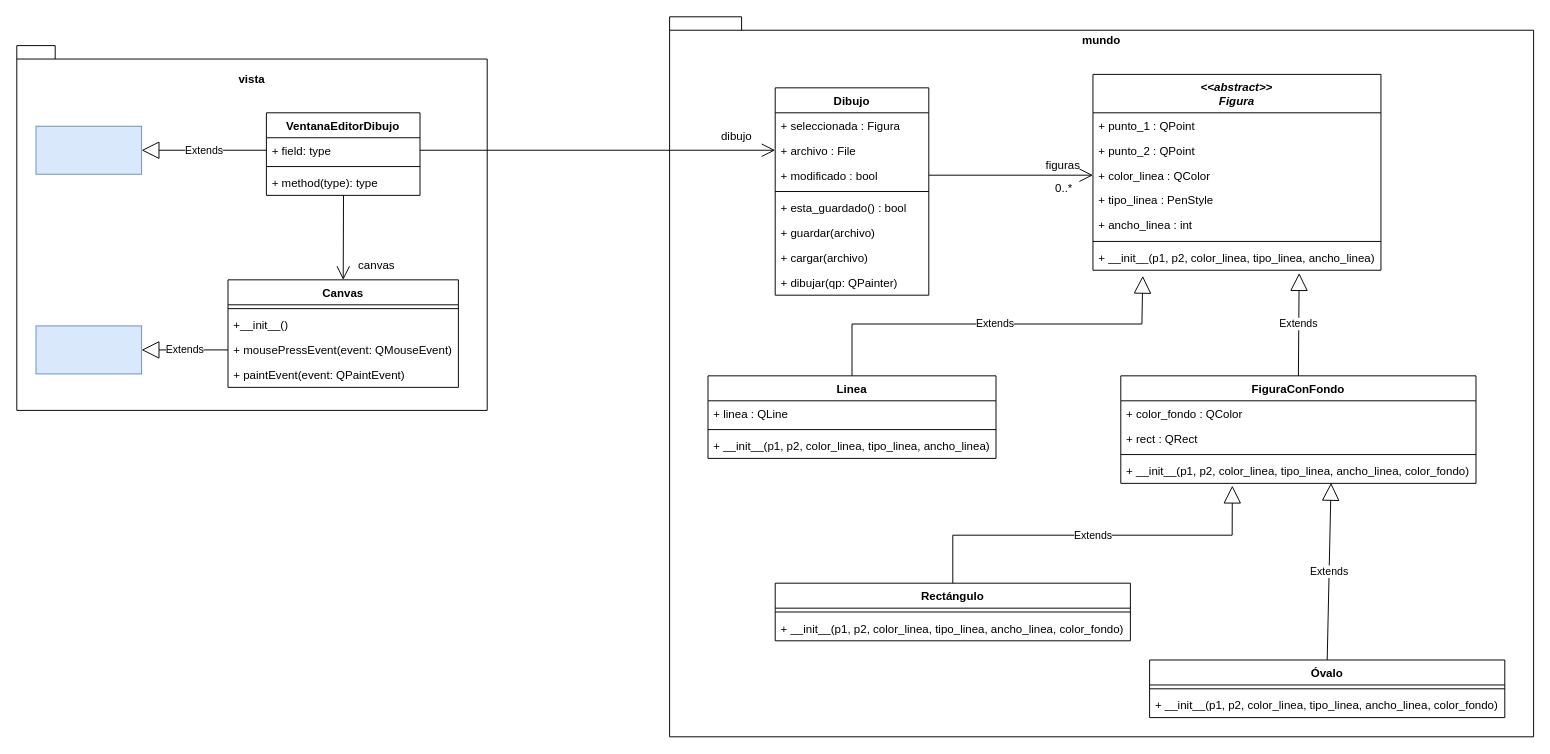
This 1550x754 diagram has some shape labels left out. The centre of each missing label's shape, as x and y in pixels:
"QMainWindow" belongs at (x=88, y=149).
"QWidget" belongs at (x=88, y=349).
